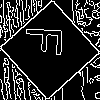F: (25, 25, 72, 58)
